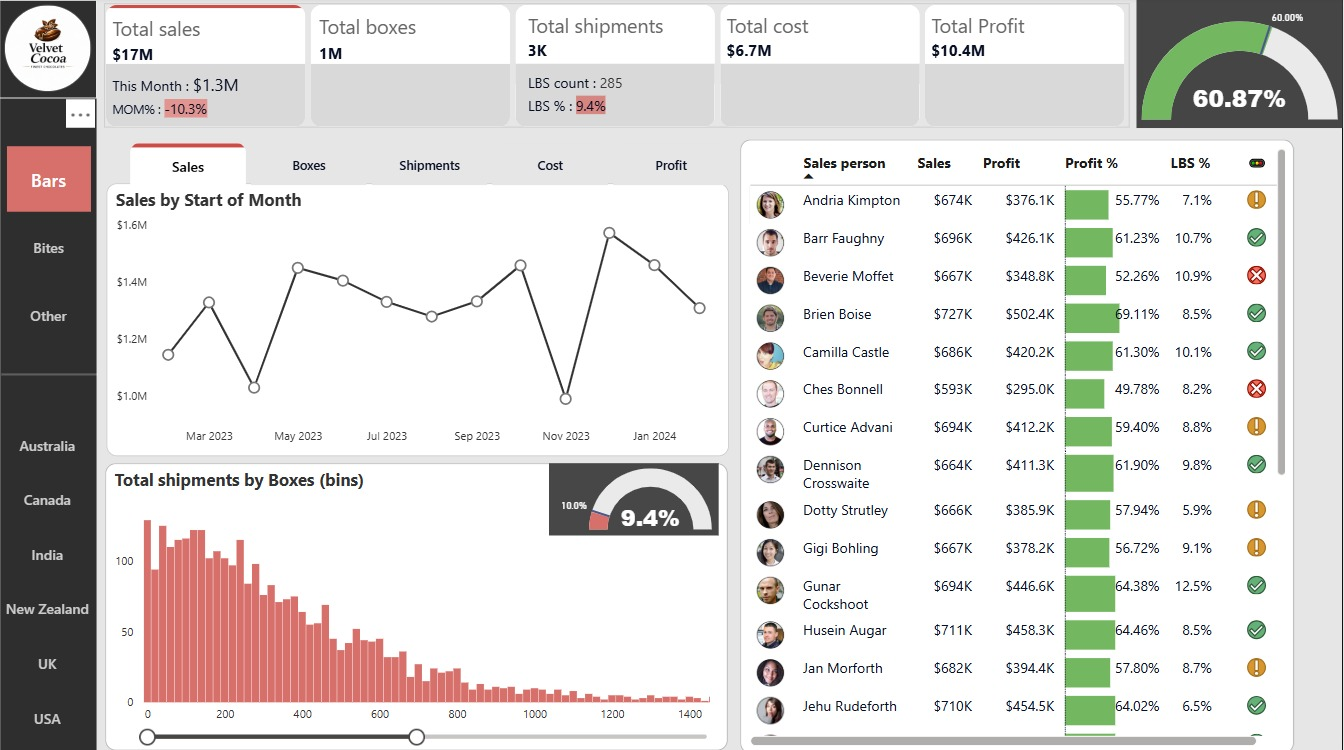

This screenshot's page, from the dashboard's own definition file:
{"tool":"powerbi","page":{"name":"Sales Report","canvas":[1280,720],"ordinal":0},"visuals":[{"type":"cardVisual","fields":{"Data":["_Measures.Total sales","_Measures.Total boxes","_Measures.Total shipments","_Measures.Total cost","_Measures.Total Profit"]},"box":[100.3,6.1,977,118.4],"z":0},{"type":"gauge","fields":{"Y":["_Measures.Profit %"]},"box":[1083.4,0,196.9,124.7],"z":1000},{"type":"lineChart","fields":{"Y":["_Measures.Total sales"],"Category":["calendar.Start of Month"]},"box":[102.5,177.5,593,260.2],"z":2000},{"type":"advancedSlicerVisual","fields":{"Values":["Measure selector.Measure selector"]},"box":[124.5,139.6,571,40.6],"z":3000},{"type":"clusteredColumnChart","fields":{"Y":["_Measures.Total shipments"],"Category":["shipments.Boxes (bins)"]},"box":[101.5,443.9,593,273.9],"z":4000},{"type":"gauge","fields":{"Y":["_Measures.LBS %"]},"box":[523.3,443.9,161.4,68.5],"z":5000},{"type":"shape","box":[1.2,3.7,91.7,715.1],"z":7000},{"type":"tableEx","fields":{"Values":["people.Picture","people.Sales person","_Measures.Total sales","_Measures.Total Profit","_Measures.Profit %","_Measures.LBS %","_Measures.profit target indicator"]},"box":[705.5,135.7,527,584.5],"z":8000},{"type":"advancedSlicerVisual","fields":{"Values":["products.Category"]},"box":[1.2,135.7,92.9,206.6],"z":9000},{"type":"advancedSlicerVisual","fields":{"Values":["locations.Geo"]},"box":[0,395,92.9,324],"z":10000},{"type":"shape","box":[2.4,316.7,91.7,85.6],"z":11000},{"type":"image","box":[0,2.9,92.9,92.9],"z":11001}]}

Visuals, with their boxes on the page's 1280x720 design canvas (x1, y1, x2, y2). These are canvas units, not pixel positions in the 1344x750 screenshot, which may show the page scaled, cropped or inside an application window:
cardVisual - _Measures.Total sales x _Measures.Total boxes: 100,6,1077,124
gauge - _Measures.Profit %: 1083,0,1280,125
lineChart - _Measures.Total sales x calendar.Start of Month: 102,178,696,438
advancedSlicerVisual - Measure selector.Measure selector: 124,140,696,180
clusteredColumnChart - _Measures.Total shipments x shipments.Boxes (bins): 102,444,694,718
gauge - _Measures.LBS %: 523,444,685,512
shape: 1,4,93,719
tableEx - people.Picture x people.Sales person: 706,136,1232,720
advancedSlicerVisual - products.Category: 1,136,94,342
advancedSlicerVisual - locations.Geo: 0,395,93,719
shape: 2,317,94,402
image: 0,3,93,96
